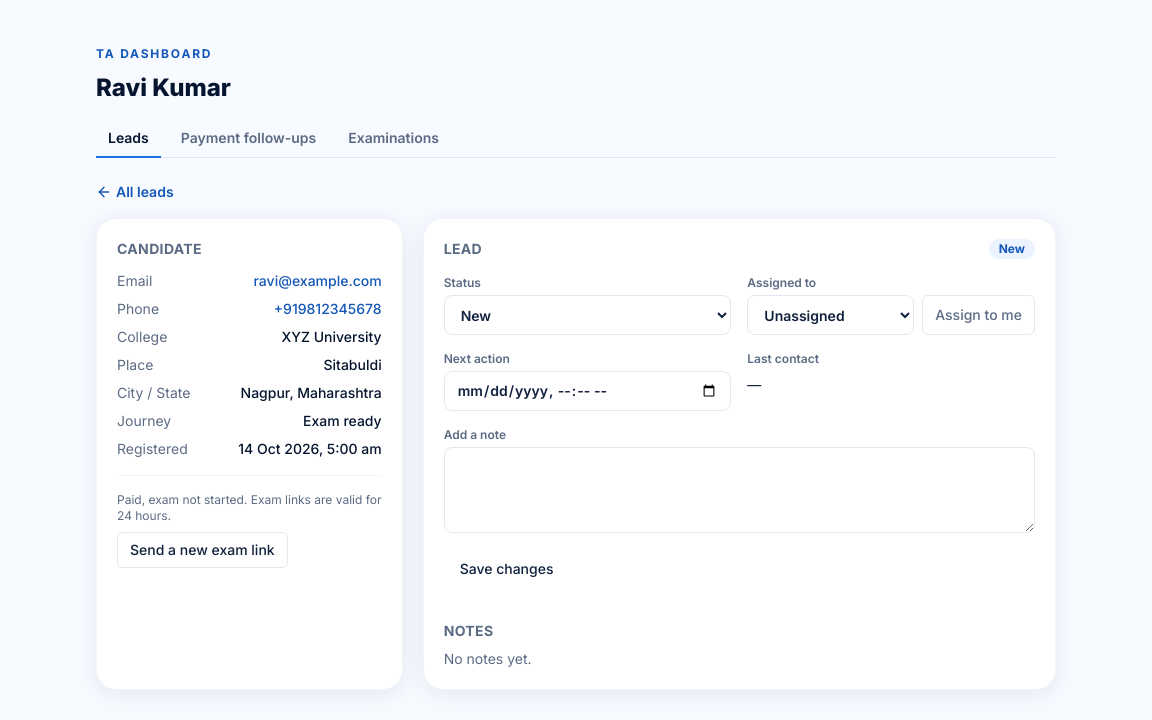
Test: Lead detail (US8) › sends a paid candidate a new 24-hour exam link
Click the button "Send a new exam link": (202, 550) [117, 532, 288, 568]
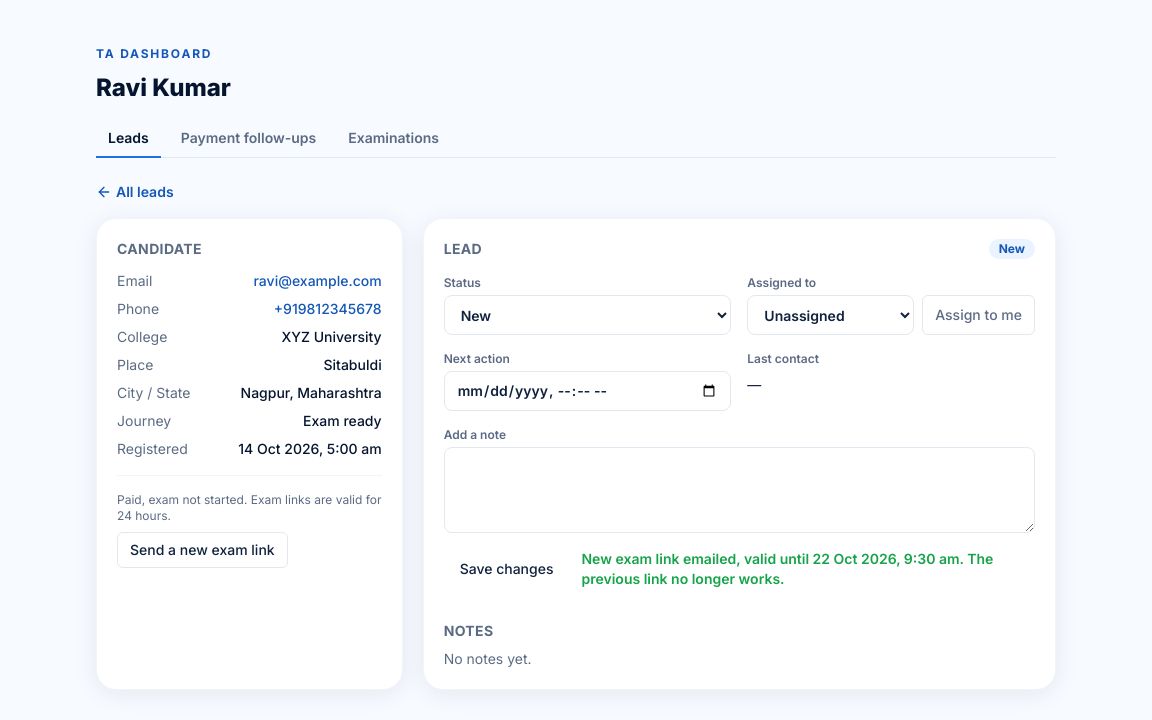
expect the text "New exam link emailed" is shown: met, box [582, 550, 993, 587]
